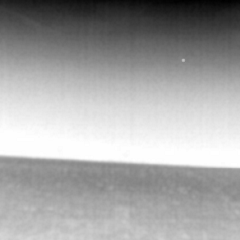Target: (180, 56, 187, 64)
